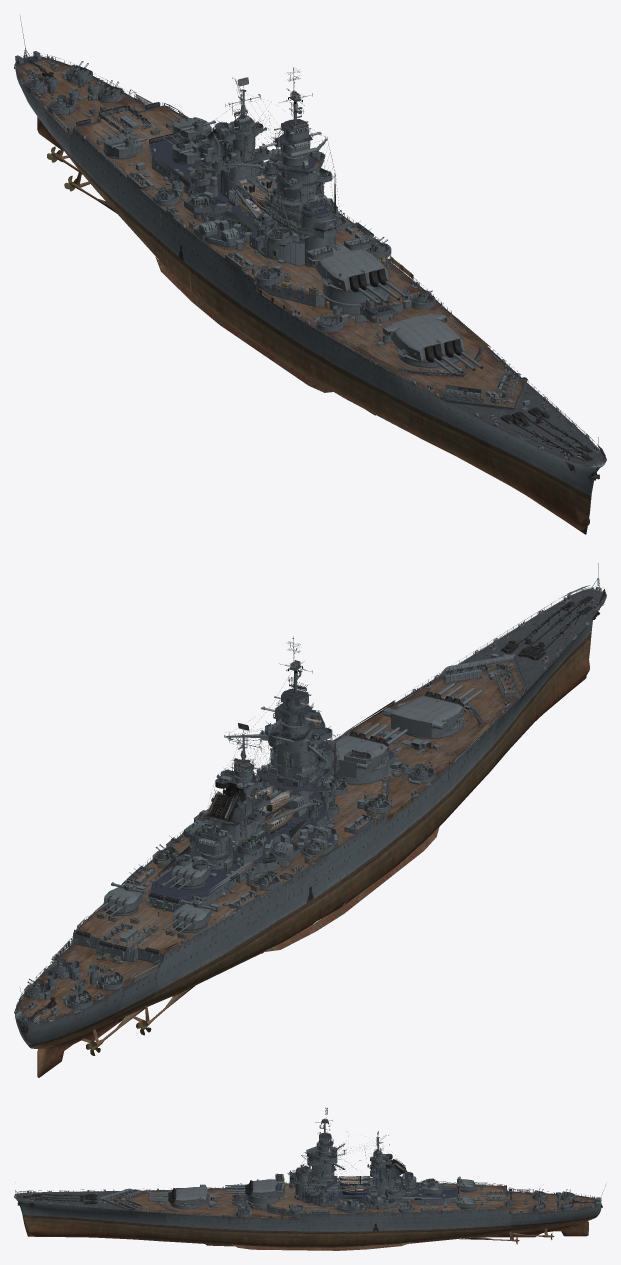
The model's file is richelieu-maximum-compressed.glb.
The picture shows the model from 3 angles, top to bottom: view 1: azimuth 30°, elevation 25°; view 2: azimuth 150°, elevation 25°; view 3: azimuth 270°, elevation 25°; orthographic projection. The views are drawn at different scales.
Parts seen in each view (by area): view 1: Object_103, Object_99, Object_85, Object_101, Object_84, Object_72, Object_100, Object_105, Object_104, Object_89, Object_102, Object_87 (+4 smaller); view 2: Object_103, Object_101, Object_84, Object_99, Object_85, Object_105, Object_72, Object_102, Object_100, Object_104, Object_87, Object_68 (+5 smaller); view 3: Object_103, Object_101, Object_99, Object_85, Object_84, Object_105, Object_72, Object_100, Object_104, Object_102, Object_87, Object_68 (+6 smaller).
Boxes of the visible parts, <box> form: Object_103: <box>215,68,510,436</box>; Object_99: <box>435,371,606,534</box>; Object_85: <box>24,67,462,369</box>; Object_101: <box>55,85,337,301</box>; Object_84: <box>75,96,276,239</box>; Object_72: <box>307,246,483,375</box>; Object_100: <box>403,356,517,454</box>; Object_105: <box>14,14,136,162</box>; Object_104: <box>188,181,348,324</box>; Object_89: <box>215,67,513,392</box>; Object_102: <box>46,93,145,171</box>; Object_87: <box>53,77,341,246</box>; Object_103: <box>224,639,510,913</box>; Object_101: <box>67,730,337,1028</box>; Object_84: <box>75,740,317,954</box>; Object_99: <box>435,563,606,759</box>; Object_85: <box>24,711,467,1009</box>; Object_105: <box>14,954,136,1077</box>; Object_72: <box>334,682,483,778</box>; Object_102: <box>47,948,158,1040</box>; Object_100: <box>403,678,520,776</box>; Object_104: <box>193,791,348,953</box>; Object_87: <box>53,735,341,981</box>; Object_68: <box>94,856,215,916</box>; Object_103: <box>145,1118,367,1250</box>; Object_101: <box>335,1135,526,1249</box>; Object_99: <box>14,1182,141,1239</box>; Object_85: <box>169,1146,574,1217</box>; Object_84: <box>339,1138,509,1213</box>; Object_105: <box>523,1185,605,1237</box>; Object_72: <box>148,1179,284,1206</box>; Object_100: <box>137,1190,166,1241</box>; Object_104: <box>332,1181,375,1250</box>; Object_102: <box>510,1191,540,1237</box>; Object_87: <box>340,1135,529,1215</box>; Object_68: <box>422,1180,487,1208</box>.
Bounding box in the file's own units: 22.23 × 40.51 × 167.
78 materials, 76 textured.
